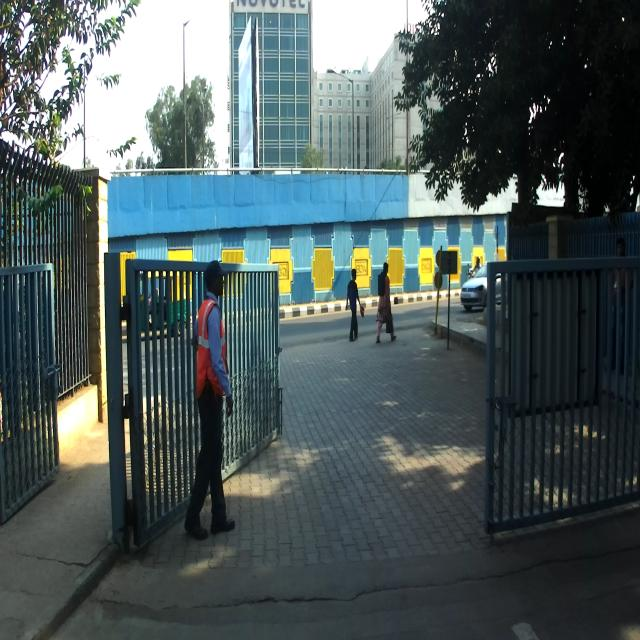gate ahead at: (487, 255, 640, 528)
person ahead at: (184, 260, 238, 544), (372, 261, 399, 347), (342, 265, 368, 348)
